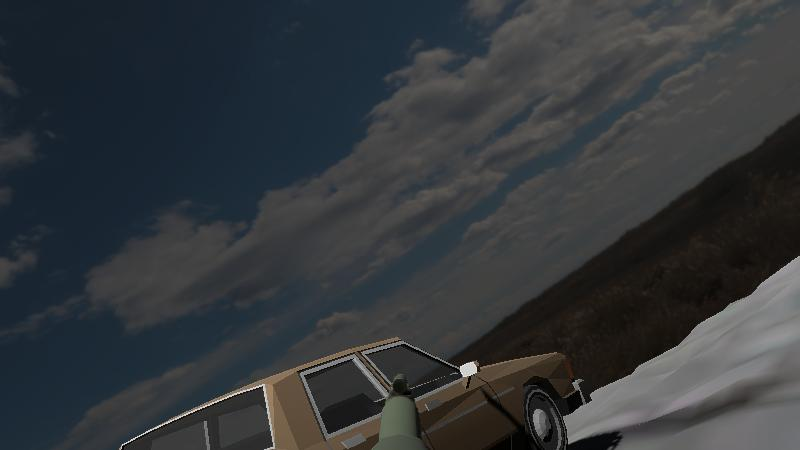car: (60, 340, 587, 450)
